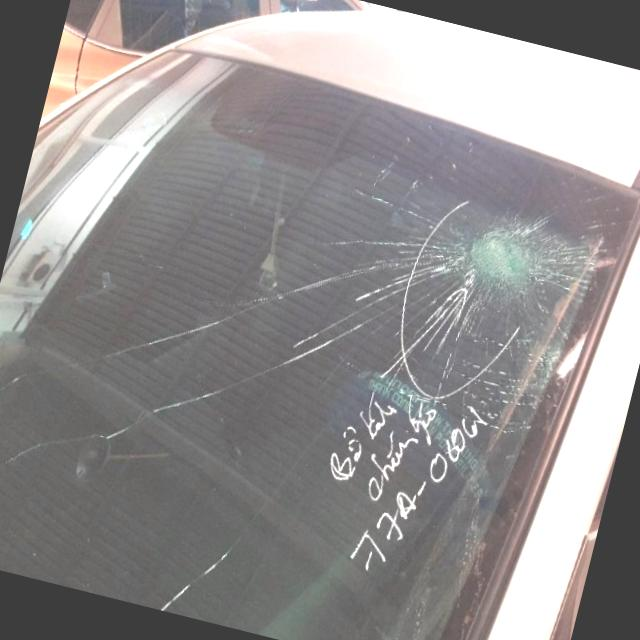Fissure: (4, 122, 442, 546), (103, 315, 402, 640), (411, 189, 602, 339), (471, 318, 588, 452)
